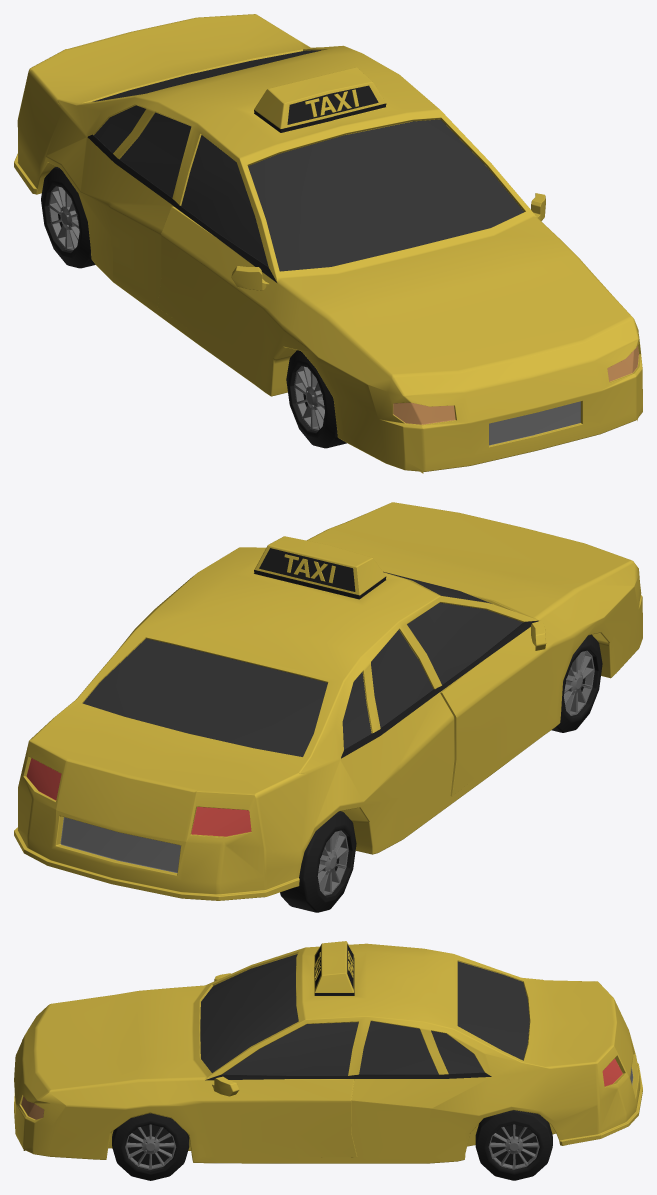
File: taxi.glb
3 renders of one model, top to bottom at view 1: azimuth 30°, elevation 25°; view 2: azimuth 150°, elevation 25°; view 3: azimuth 270°, elevation 25°, orthographic. The views are drawn at different scales.
Parts seen in each view (by area): view 1: Taxi_Cube.009, Taxi_BackWheels_Cube.010, Taxi_FrontRightWheel_Cube.014; view 2: Taxi_Cube.009, Taxi_BackWheels_Cube.010, Taxi_FrontRightWheel_Cube.014; view 3: Taxi_Cube.009, Taxi_BackWheels_Cube.010, Taxi_FrontLeftWheel_Cube.013.
Part boxes in pixels (x1,y1,x2,y2): Taxi_Cube.009: (14, 14, 642, 473); Taxi_BackWheels_Cube.010: (41, 167, 95, 268); Taxi_FrontRightWheel_Cube.014: (286, 350, 346, 448); Taxi_Cube.009: (14, 502, 642, 900); Taxi_BackWheels_Cube.010: (280, 811, 356, 912); Taxi_FrontRightWheel_Cube.014: (551, 634, 602, 732); Taxi_Cube.009: (14, 941, 642, 1163); Taxi_BackWheels_Cube.010: (475, 1110, 552, 1180); Taxi_FrontLeftWheel_Cube.013: (112, 1113, 189, 1180).
Size of the model in its own units: 1.8 by 1.31 by 4.22.
